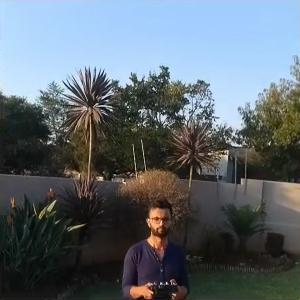follow: (117, 194, 192, 299)
